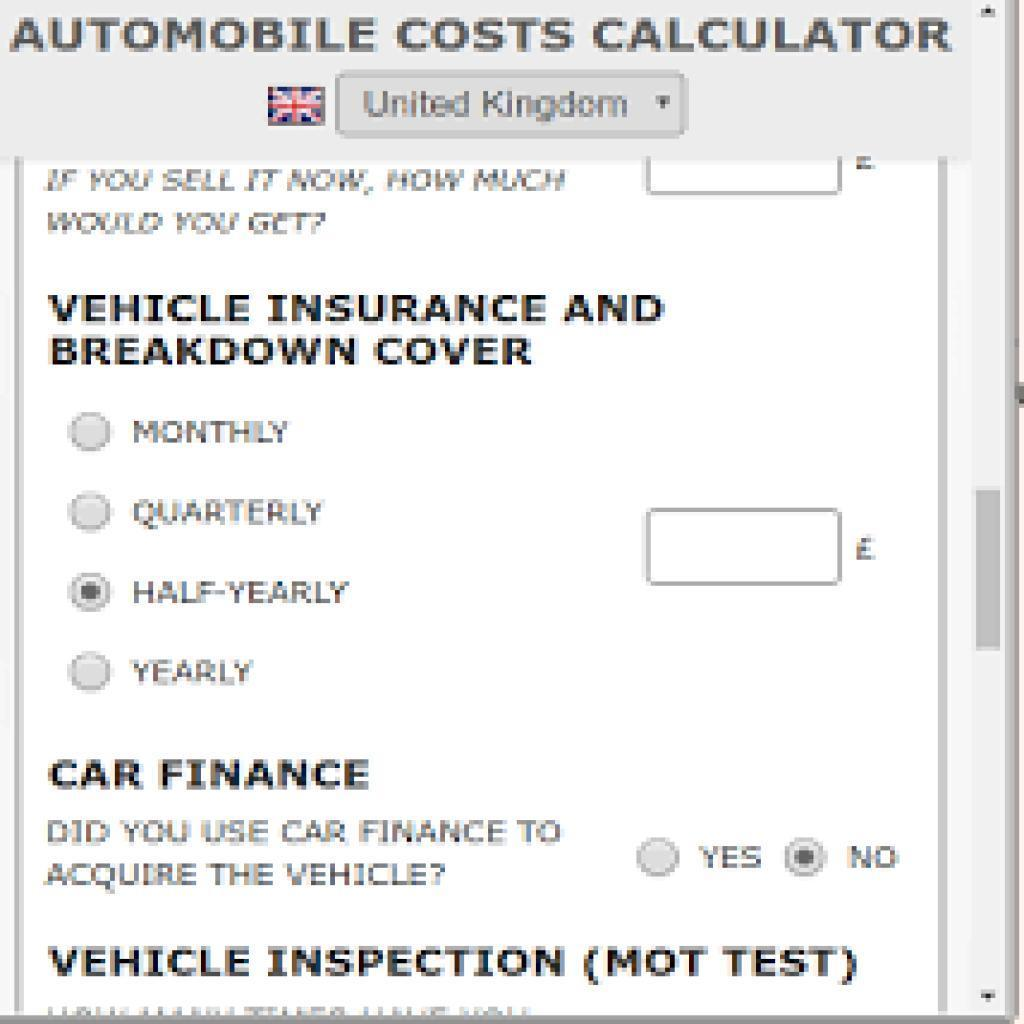dropdown: (335, 70, 689, 139)
input: (645, 510, 845, 590)
label: (48, 945, 863, 992), (48, 754, 373, 800), (132, 577, 360, 610), (130, 495, 327, 529), (130, 415, 295, 449), (127, 652, 254, 692), (698, 842, 769, 875), (847, 842, 902, 875)
radio: (65, 651, 117, 695), (67, 491, 115, 536), (637, 837, 685, 880), (782, 837, 831, 878), (69, 570, 113, 614), (69, 410, 113, 453)
